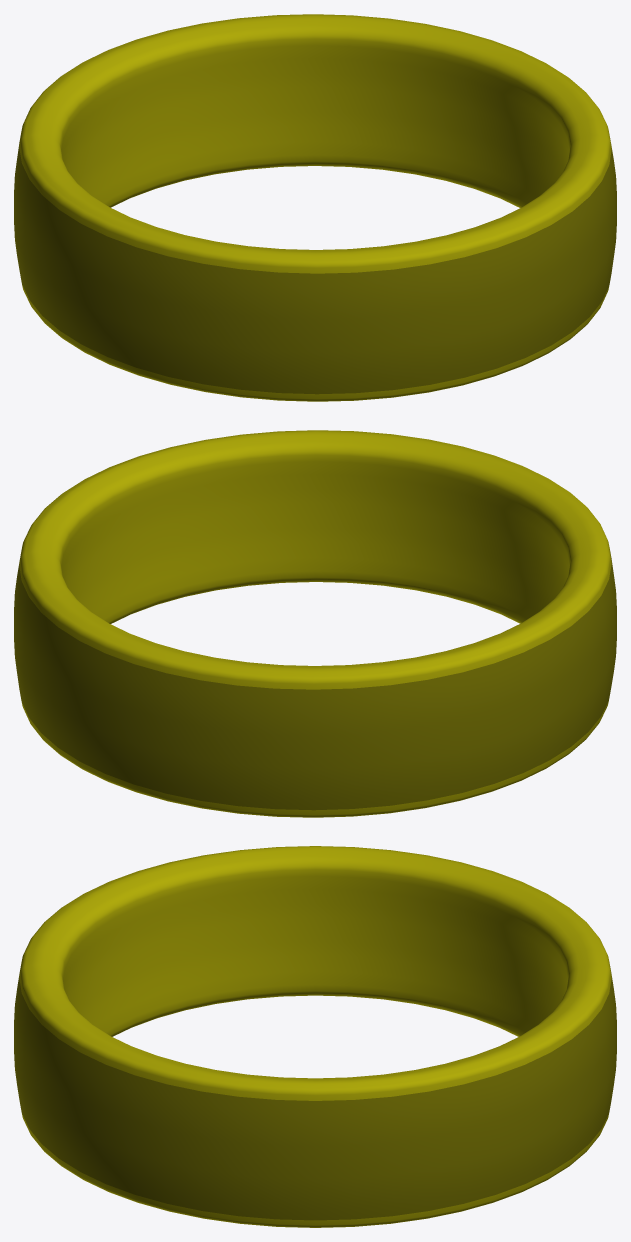
Rendered from GoldRingHighRez.fbx.
3 renders of one model, top to bottom at view 1: azimuth 30°, elevation 25°; view 2: azimuth 150°, elevation 25°; view 3: azimuth 270°, elevation 25°, orthographic.
Visible parts, largest first — view 1: pPipe1; view 2: pPipe1; view 3: pPipe1.
Part boxes in pixels (x1,y1,x2,y2): pPipe1: [14, 14, 616, 401]; pPipe1: [14, 430, 616, 817]; pPipe1: [14, 846, 616, 1227].
Size of the model in its own units: 1.89 by 0.5066 by 1.91.
